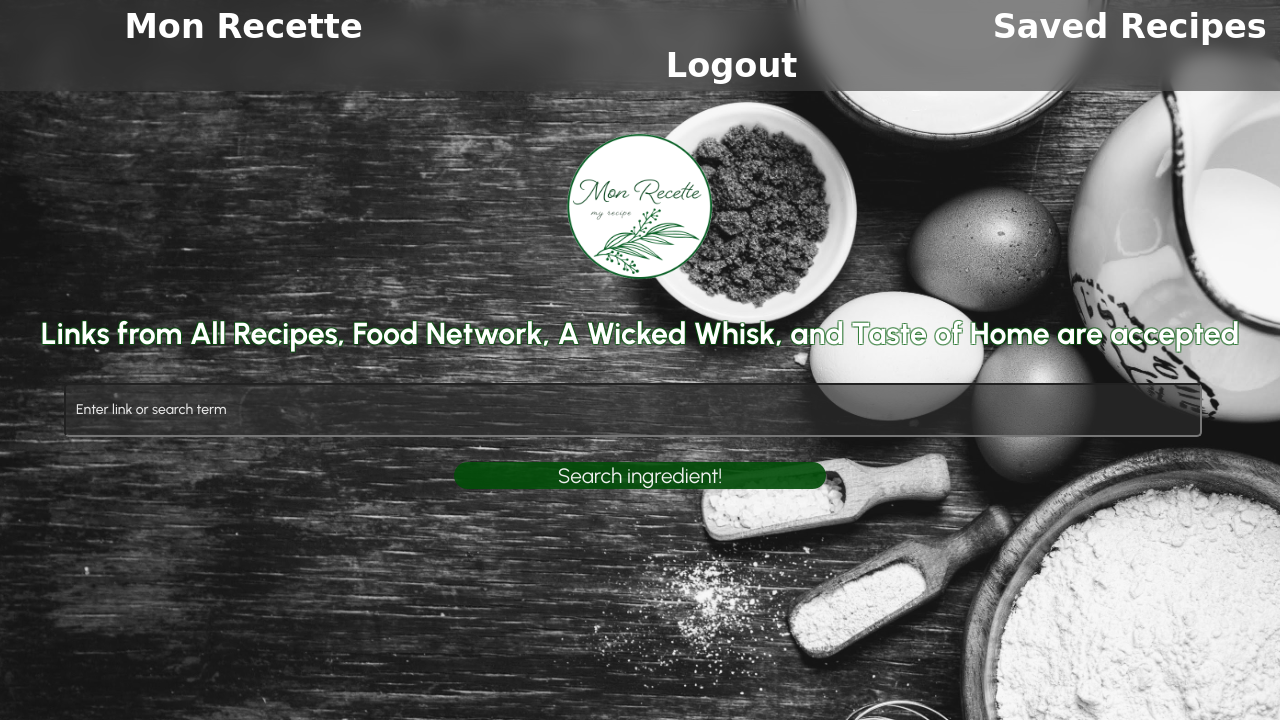
Scenario: Should display the home page with search › should show the home page and display an error message when nothing is entered
Expected: the header with class "header" is shown, x1=0 y1=0 x2=1279 y2=91
Expected: the link "Mon Recette" is shown, x1=124 y1=7 x2=363 y2=46
Click the button with class "search-button": (640, 476) x1=454 y1=462 x2=825 y2=489
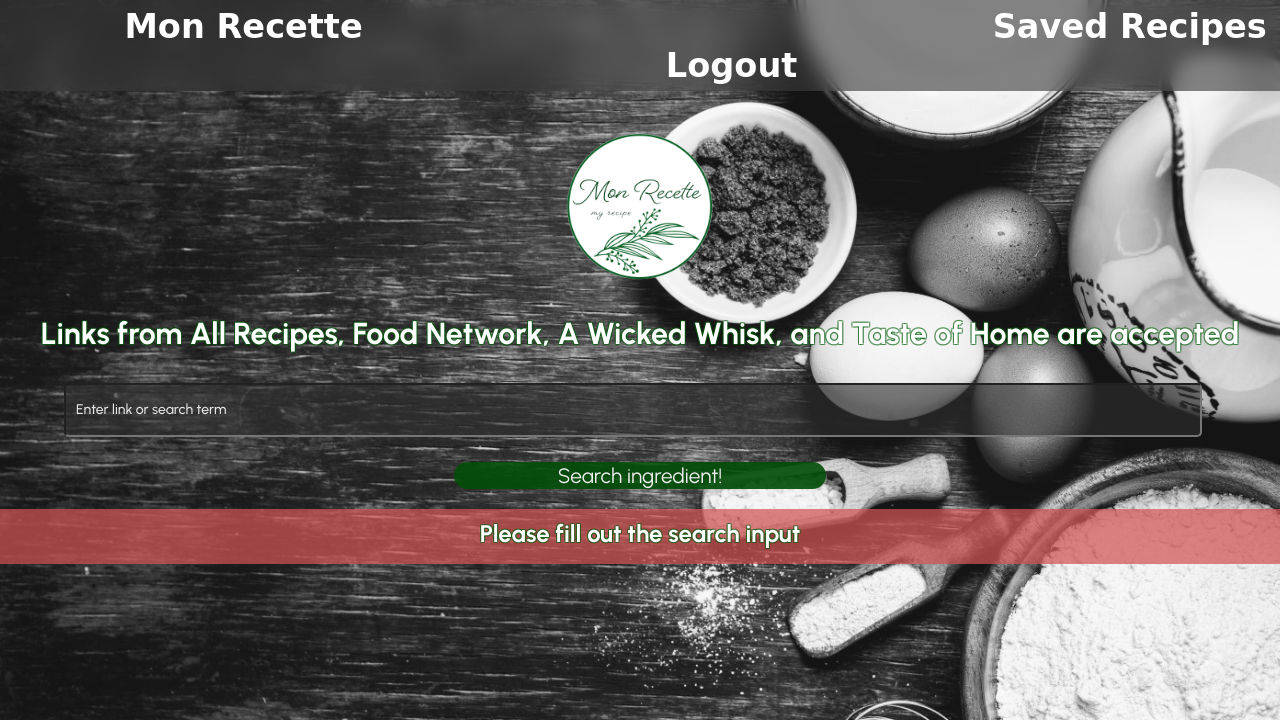
Now the message "Please fill out the search input" is shown, box x1=0 y1=509 x2=1279 y2=564
